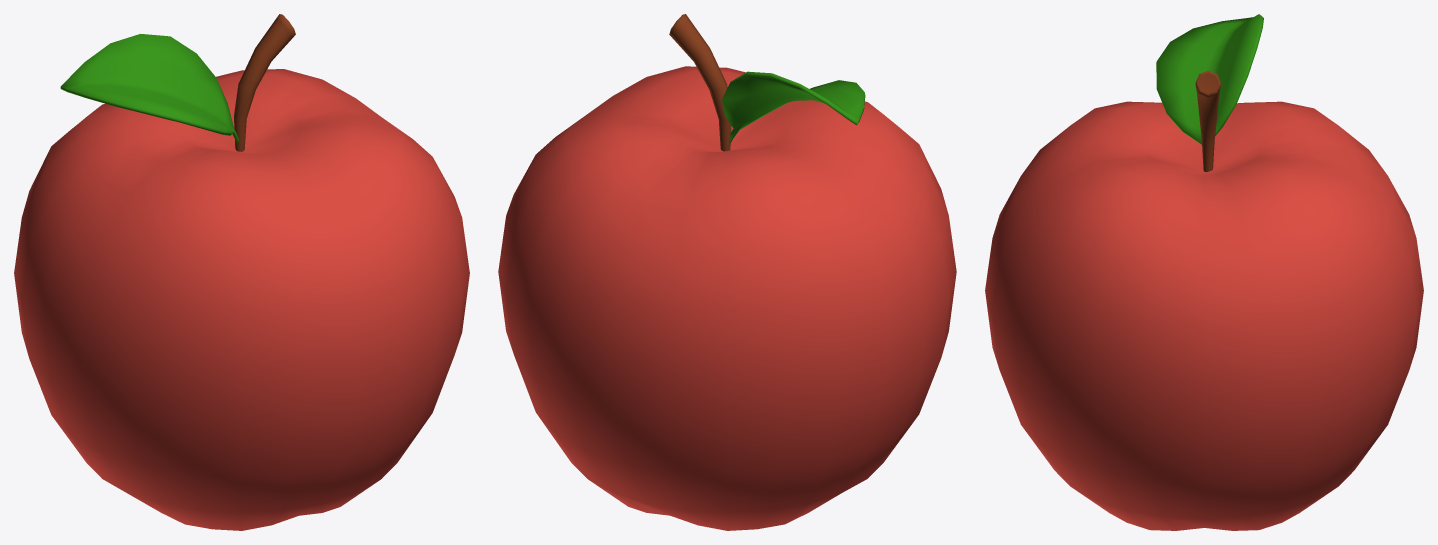
The model's file is Appel.fbx.
The picture shows the model from 3 angles, left to right: view 1: azimuth 30°, elevation 25°; view 2: azimuth 150°, elevation 25°; view 3: azimuth 270°, elevation 25°; orthographic projection. The views are drawn at different scales.
Parts seen in each view (by area): view 1: Apple; view 2: Apple; view 3: Apple.
Part boxes in pixels (x1=…): Apple: x1=14, y1=14, x2=469, y2=530; Apple: x1=498, y1=14, x2=956, y2=530; Apple: x1=985, y1=14, x2=1423, y2=530.
Bounding box in the file's own units: 203 × 231 × 203.
